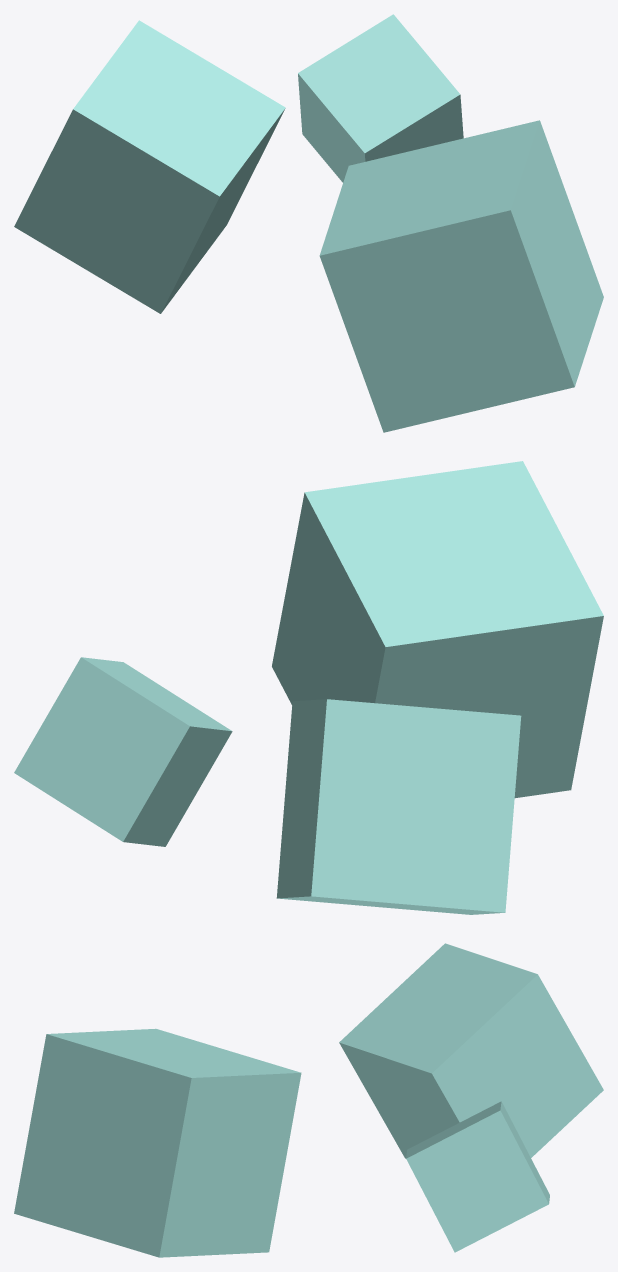
Rendered from icecubes.fbx.
The picture shows the model from 3 angles, top to bottom: view 1: azimuth 30°, elevation 25°; view 2: azimuth 150°, elevation 25°; view 3: azimuth 270°, elevation 25°; orthographic projection. The views are drawn at different scales.
Visible parts, largest first — view 1: icecubes; view 2: icecubes; view 3: icecubes.
Part boxes in pixels (x1,y1,x2,y2): icecubes: (14, 14, 603, 432); icecubes: (14, 461, 603, 914); icecubes: (14, 943, 603, 1257).
Size of the model in its own units: 18.14 by 10.31 by 24.31.
